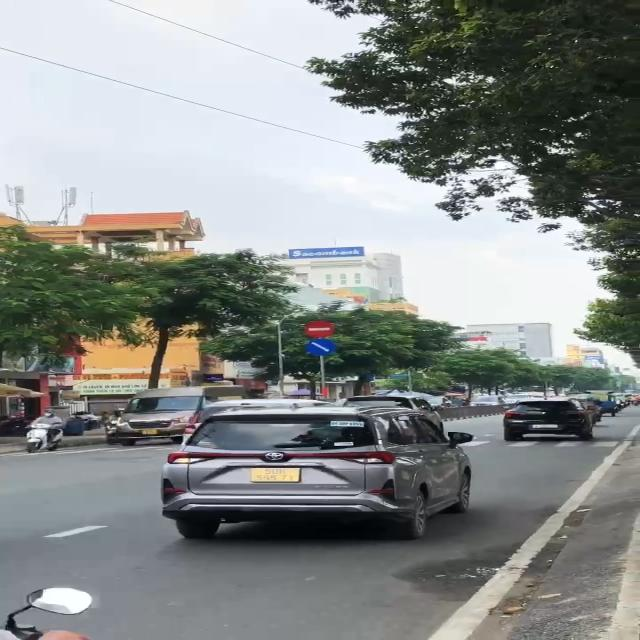Bien bao cam di nguoc chieu: (302, 319, 335, 338)
Bien bao huong phai di vong chuong ngai vat: (305, 338, 343, 358)
